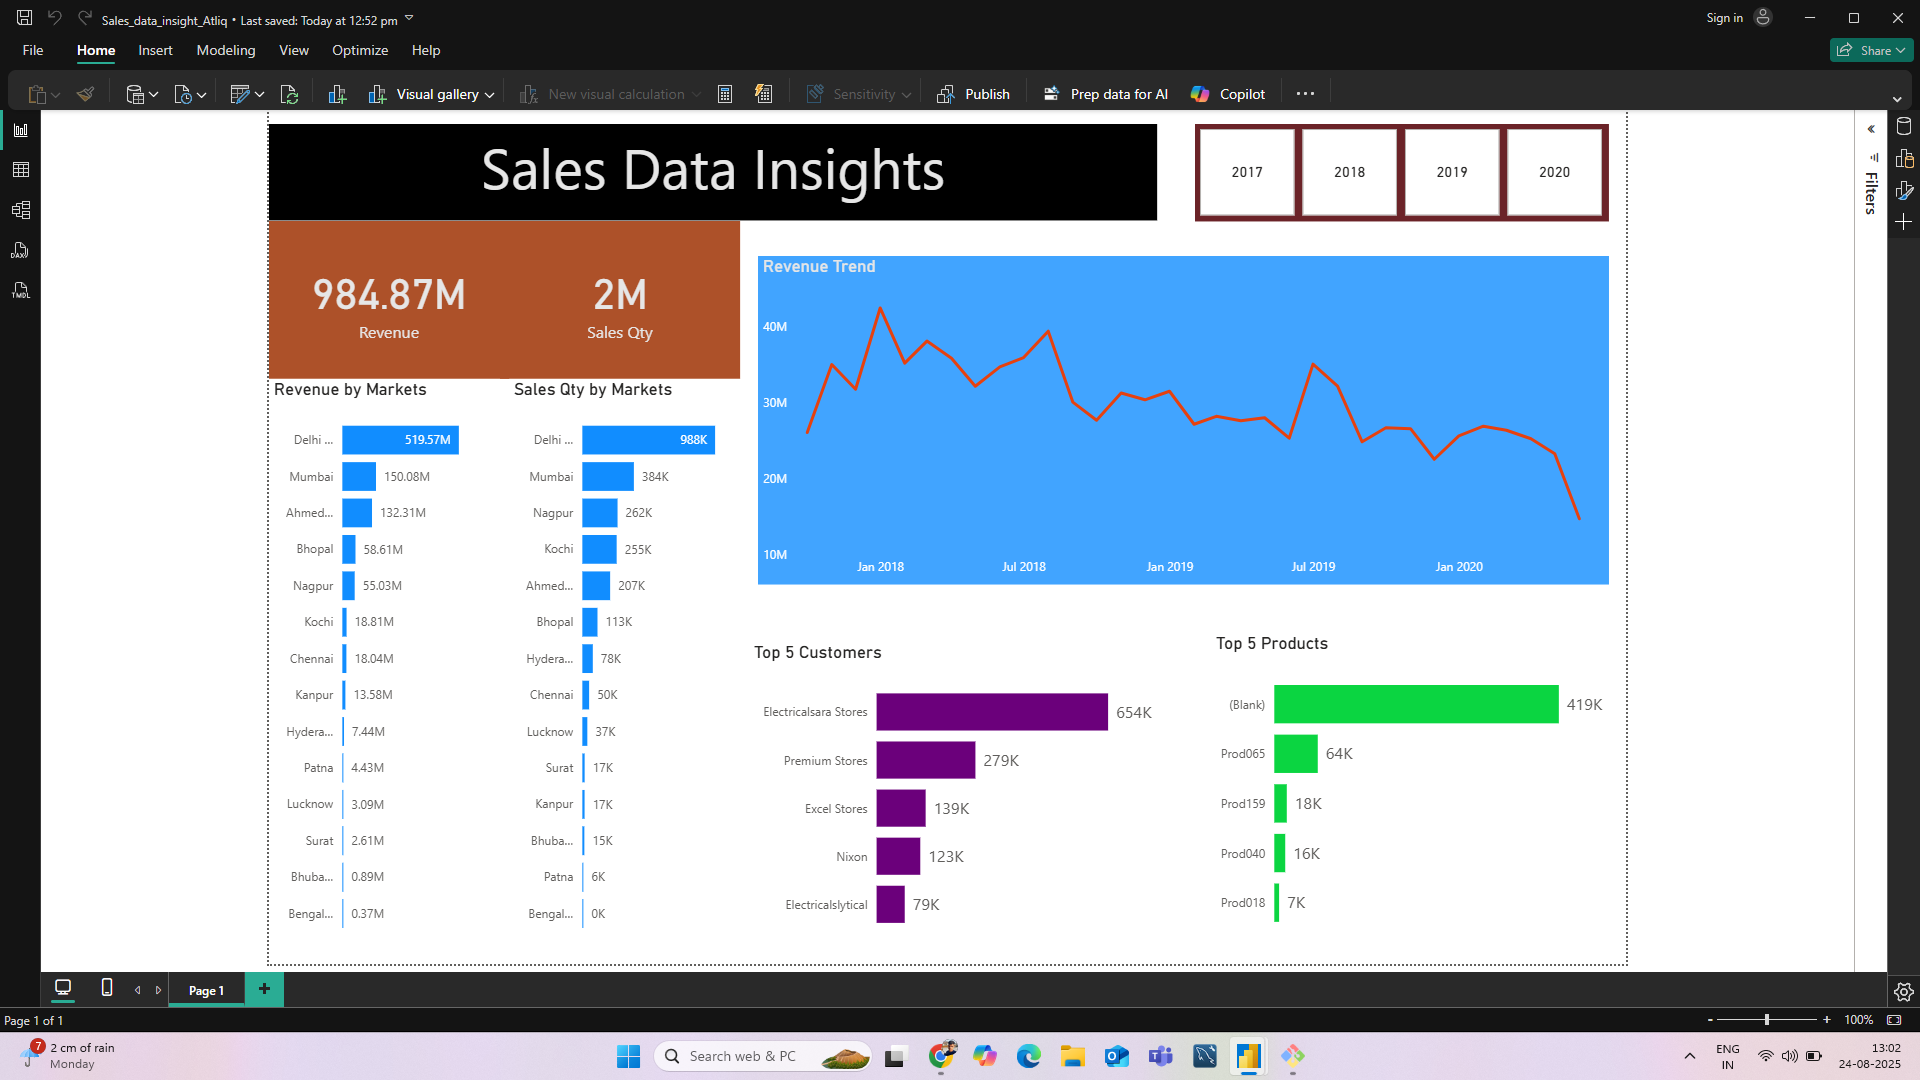

This screenshot's page, from the dashboard's own definition file:
{"tool":"powerbi","page":{"name":"Page 1","canvas":[1350,850],"ordinal":0},"visuals":[{"type":"card","fields":{"Values":["BaseMeasures.Revenue"]},"box":[0,110.3,238.9,156.8],"z":0},{"type":"card","fields":{"Values":["BaseMeasures.Sales Qty"]},"box":[230.3,110.3,238.9,156.8],"z":1000},{"type":"barChart","title":"Revenue by Markets","fields":{"Y":["BaseMeasures.Revenue"],"Category":["sales markets.markets_name"]},"box":[0,267.6,238.7,566.3],"z":2000},{"type":"barChart","title":"Sales Qty by Markets","fields":{"Y":["BaseMeasures.Sales Qty"],"Category":["sales markets.markets_name"]},"box":[238.7,267.6,238.7,566.3],"z":3000},{"type":"advancedSlicerVisual","fields":{"Values":["sales date.year"]},"box":[921.2,13.5,411.6,96.8],"z":4000},{"type":"barChart","title":"Top 5 Customers","fields":{"Y":["BaseMeasures.Sales Qty"],"Category":["sales customers.custmer_name"]},"box":[477.8,529.2,406.7,305],"z":6000},{"type":"barChart","title":"Top 5 Products","fields":{"Y":["BaseMeasures.Sales Qty"],"Category":["sales products.product_code"]},"box":[937.2,520.6,395.7,313.6],"z":7000},{"type":"lineChart","title":"Revenue Trend","fields":{"Y":["BaseMeasures.Revenue"],"Category":["sales date.cy_date"]},"box":[486.3,145.8,846.5,327.1],"z":8000},{"type":"textbox","box":[0,13.9,884.3,96.3],"z":8001}]}

Visuals, with their boxes on the page's 1350x850 design canvas (x1, y1, x2, y2). These are canvas units, not pixel positions in the 1920x1080 screenshot, which may show the page scaled, cropped or inside an application window:
card - BaseMeasures.Revenue: left=0, top=110, right=239, bottom=267
card - BaseMeasures.Sales Qty: left=230, top=110, right=469, bottom=267
"Revenue by Markets" barChart: left=0, top=268, right=239, bottom=834
"Sales Qty by Markets" barChart: left=239, top=268, right=477, bottom=834
advancedSlicerVisual - sales date.year: left=921, top=14, right=1333, bottom=110
"Top 5 Customers" barChart: left=478, top=529, right=884, bottom=834
"Top 5 Products" barChart: left=937, top=521, right=1333, bottom=834
"Revenue Trend" lineChart: left=486, top=146, right=1333, bottom=473
textbox: left=0, top=14, right=884, bottom=110
